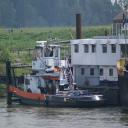tugboat: (6, 38, 109, 112)
